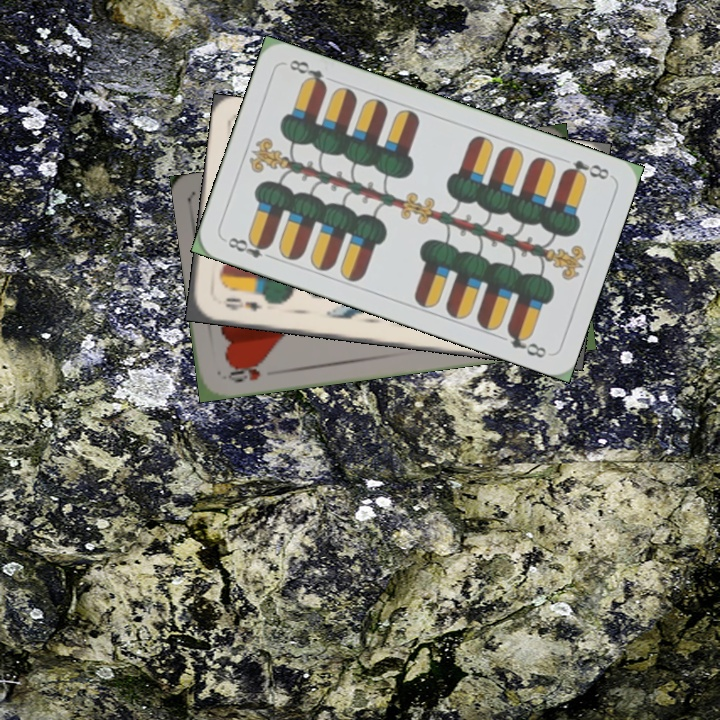E8: (223, 233, 278, 262), (559, 156, 612, 183)
EO: (221, 293, 266, 315)
HO: (221, 358, 266, 385)
